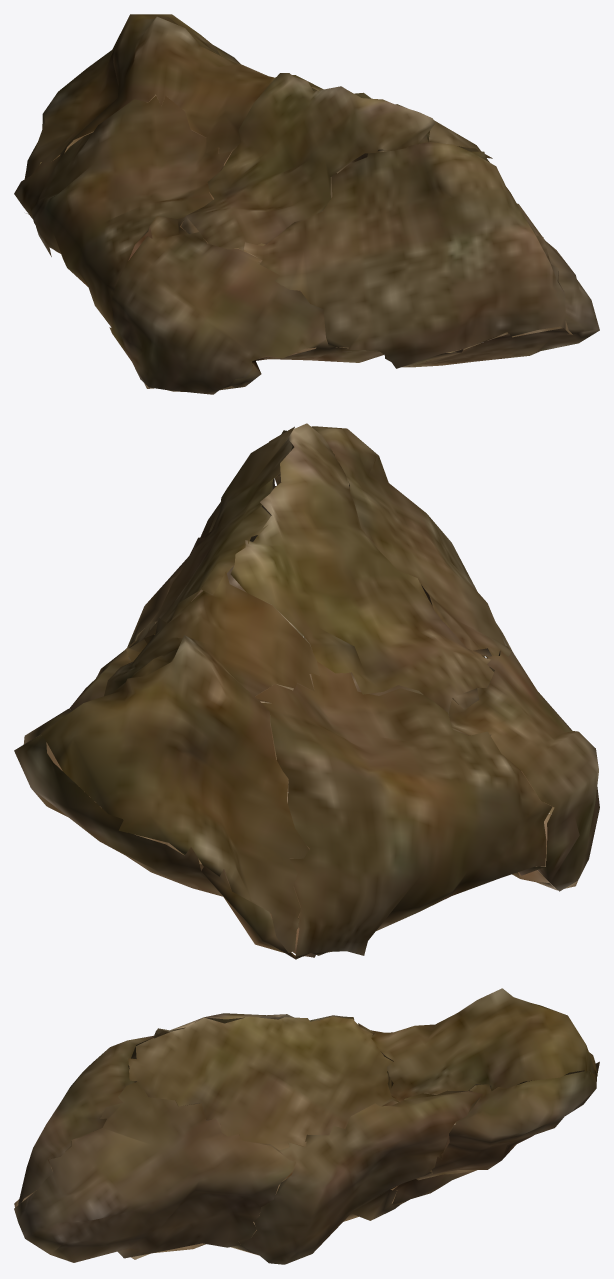
The model's file is rock_mossy_small.glb.
3 renders of one model, top to bottom at view 1: azimuth 30°, elevation 25°; view 2: azimuth 150°, elevation 25°; view 3: azimuth 270°, elevation 25°, orthographic. The views are drawn at different scales.
Visible parts, largest first — view 1: rock_moss_set_01_rock01; view 2: rock_moss_set_01_rock01; view 3: rock_moss_set_01_rock01.
Part boxes in pixels (x1,y1,x2,y2): rock_moss_set_01_rock01: [14, 14, 599, 394]; rock_moss_set_01_rock01: [14, 423, 599, 959]; rock_moss_set_01_rock01: [14, 988, 599, 1264].
Size of the model in its own units: 2.23 by 1.48 by 3.39.
Materials: 1 (1 with a texture image).
